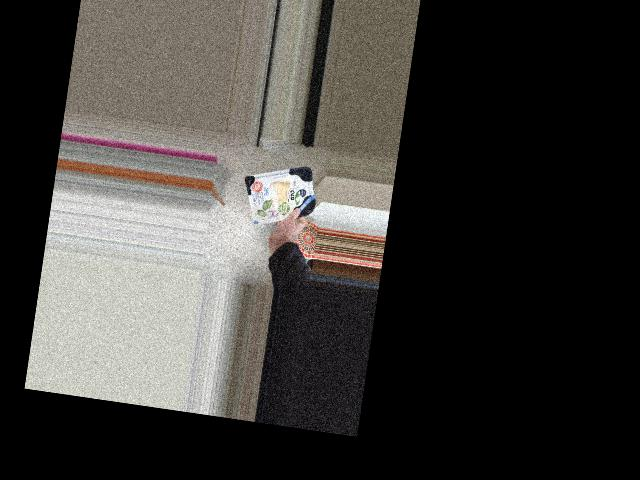cheese: (238, 157, 321, 231)
